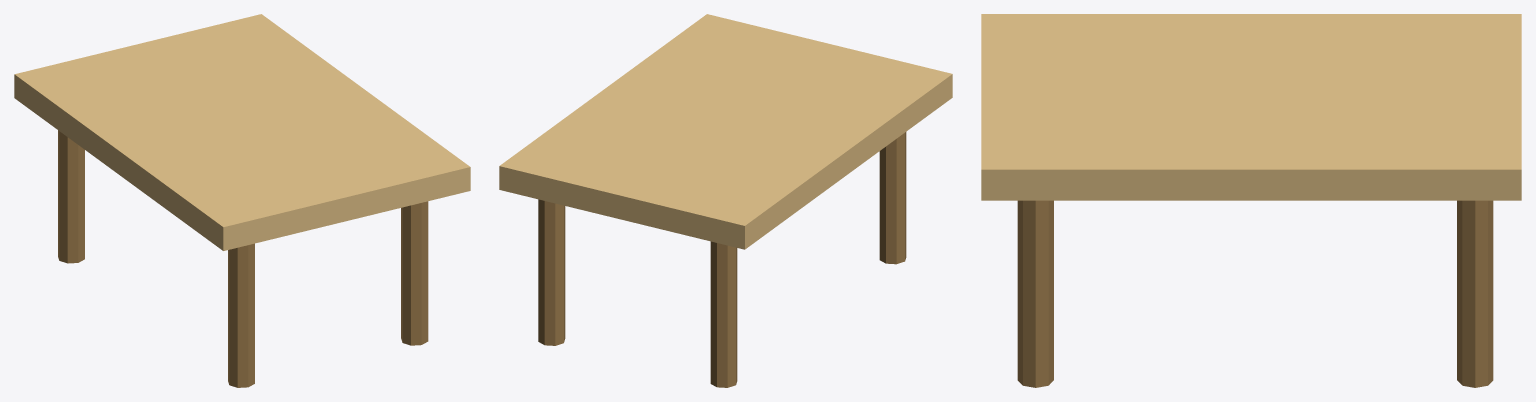
Rendered from KitchenTable.fbx.
The picture shows the model from 3 angles, left to right: view 1: azimuth 30°, elevation 25°; view 2: azimuth 150°, elevation 25°; view 3: azimuth 270°, elevation 25°; orthographic projection. The views are drawn at different scales.
Parts seen in each view (by area): view 1: Cube.023, Cylinder.015, Cylinder, Cylinder.016; view 2: Cube.023, Cylinder.016, Cylinder.017, Cylinder; view 3: Cube.023, Cylinder.015, Cylinder.017.
Part boxes in pixels (x1,y1,x2,y2): Cube.023: [14, 14, 470, 250]; Cylinder.015: [401, 201, 428, 345]; Cylinder: [228, 243, 254, 387]; Cylinder.016: [58, 130, 84, 263]; Cube.023: [499, 14, 952, 249]; Cylinder.016: [710, 241, 737, 387]; Cylinder.017: [538, 199, 565, 345]; Cylinder: [879, 132, 906, 264]; Cube.023: [981, 14, 1521, 200]; Cylinder.015: [1017, 200, 1053, 387]; Cylinder.017: [1457, 200, 1493, 387].
Bounding box in the file's own units: 129 × 189 × 89.97.
